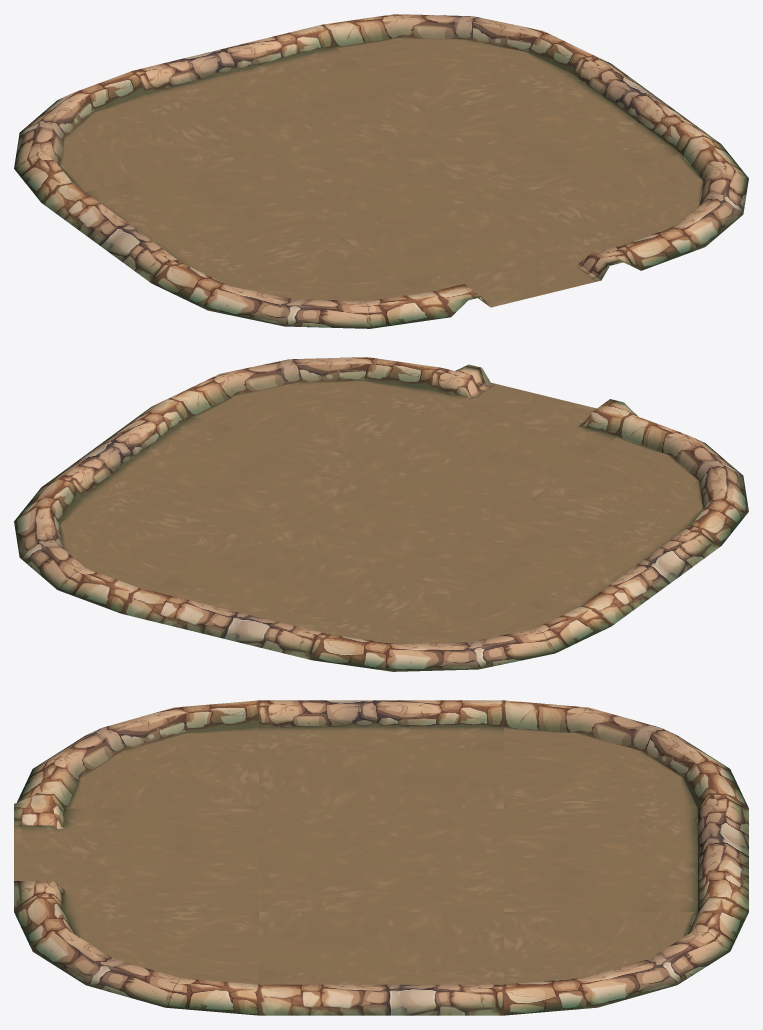
The model's file is fbx_3x3_foundation.fbx.
The picture shows the model from 3 angles, top to bottom: view 1: azimuth 30°, elevation 25°; view 2: azimuth 150°, elevation 25°; view 3: azimuth 270°, elevation 25°; orthographic projection. The views are drawn at different scales.
Visible parts, largest first — view 1: middle_3.3; view 2: middle_3.3; view 3: middle_3.3.
Boxes of the visible parts, x1,y1,x2,y2 form: middle_3.3: (14, 14, 748, 328); middle_3.3: (14, 357, 748, 671); middle_3.3: (14, 700, 748, 1015).
Bounding box in the file's own units: 2400 × 51.12 × 2400.
